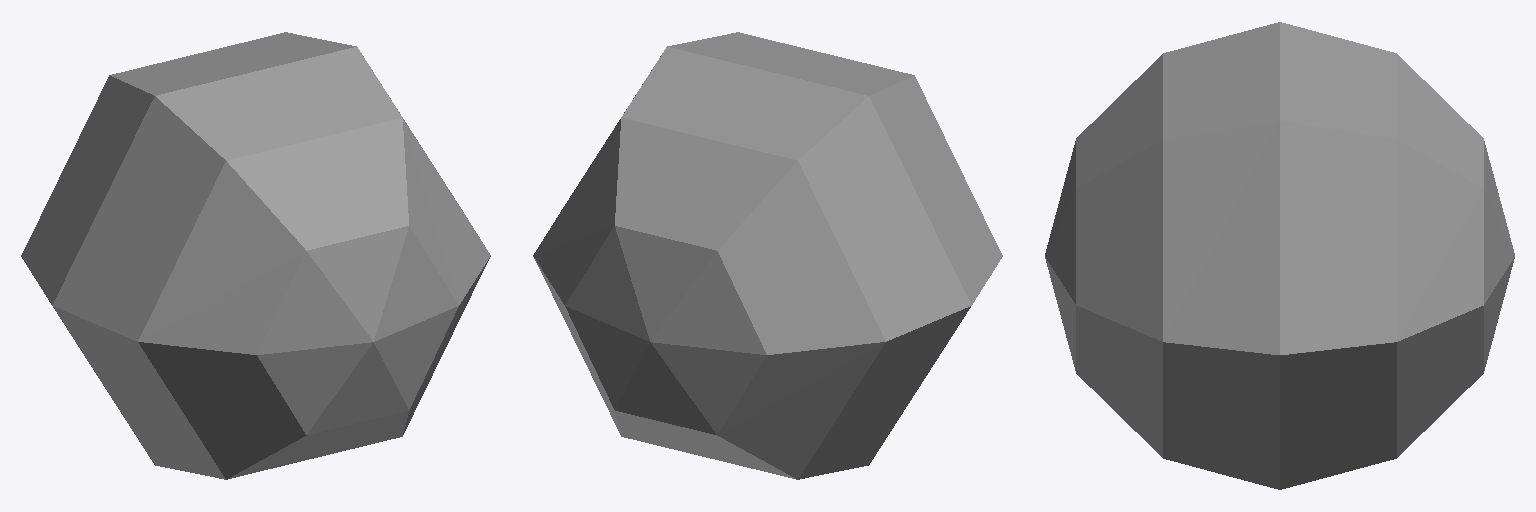
File: s_sling_ball.obj
3 renders of one model, left to right at view 1: azimuth 30°, elevation 25°; view 2: azimuth 150°, elevation 25°; view 3: azimuth 270°, elevation 25°, orthographic.
Parts seen in each view (by area): view 1: vsn_mesh_0__mesh_0_.014; view 2: vsn_mesh_0__mesh_0_.014; view 3: vsn_mesh_0__mesh_0_.014.
Boxes of the visible parts, x1=… form: vsn_mesh_0__mesh_0_.014: x1=21, y1=32, x2=490, y2=479; vsn_mesh_0__mesh_0_.014: x1=533, y1=32, x2=1002, y2=479; vsn_mesh_0__mesh_0_.014: x1=1045, y1=22, x2=1514, y2=489.
Bounding box in the file's own units: 3.6 × 3.12 × 3.6.